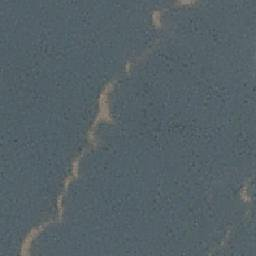debris: (86, 80, 116, 144), (20, 220, 51, 256), (51, 188, 65, 223), (149, 5, 163, 38), (66, 155, 80, 186), (238, 182, 251, 204), (169, 1, 197, 10), (123, 57, 134, 77)
